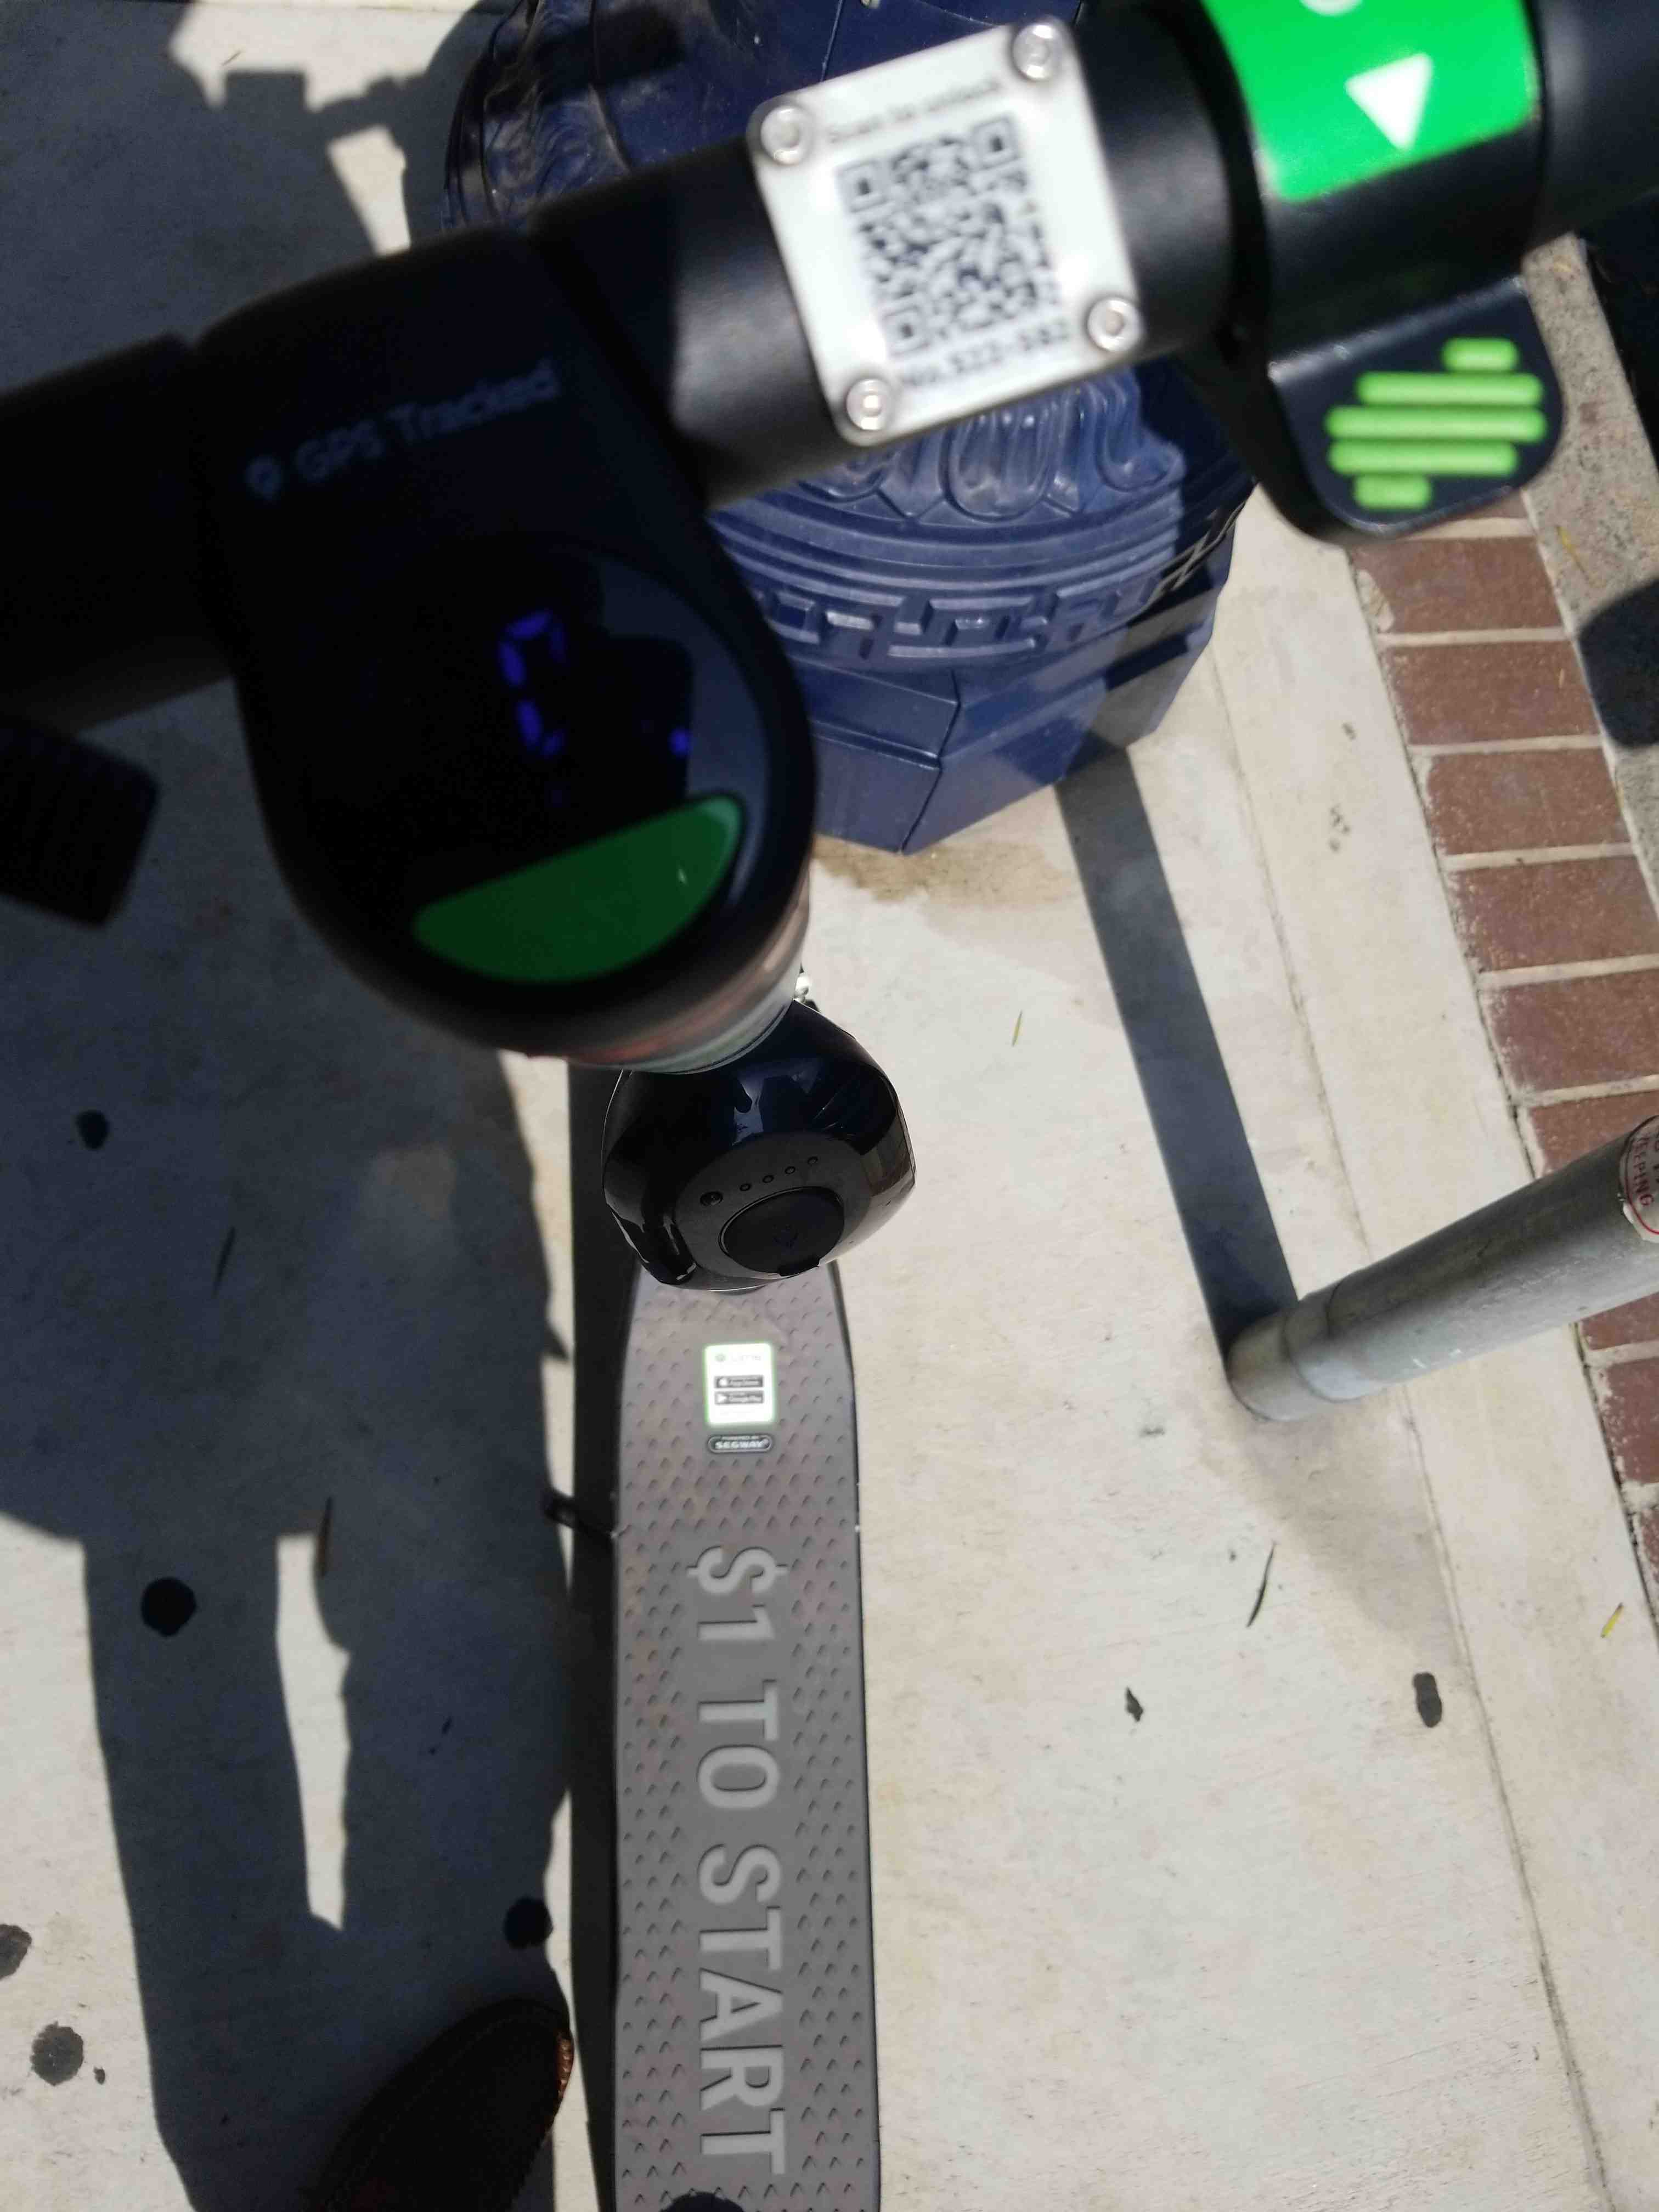scooter: (10, 45, 1624, 2212)
